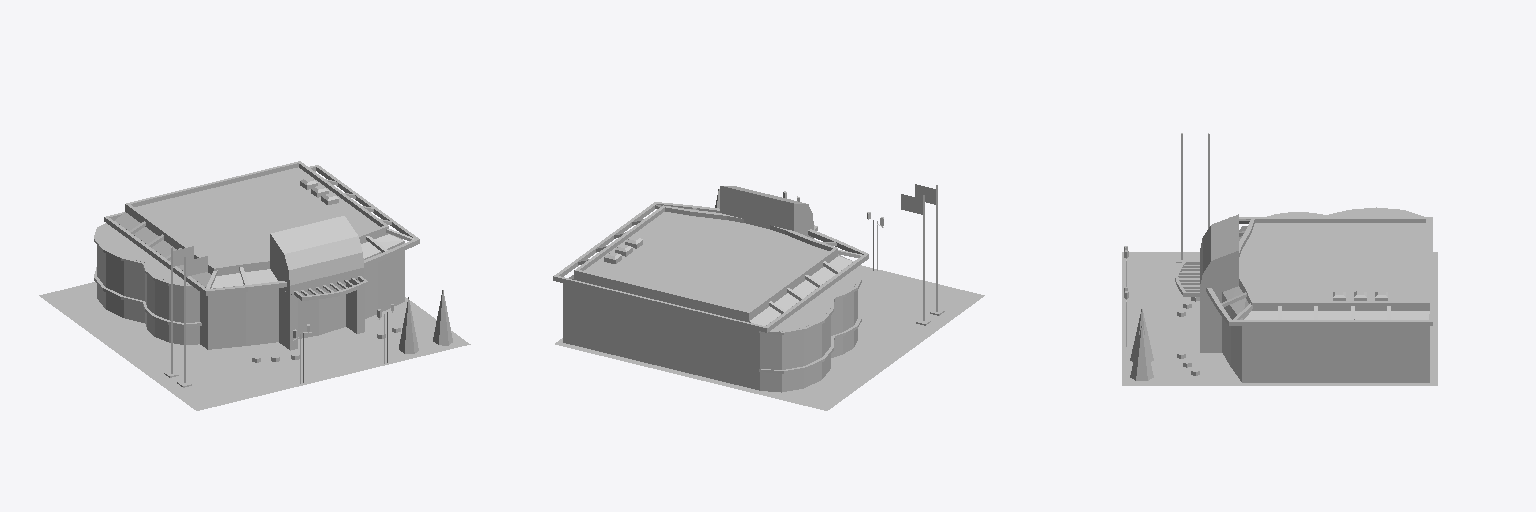
File: market_01.obj
The picture shows the model from 3 angles: view 1: azimuth 30°, elevation 25°; view 2: azimuth 150°, elevation 25°; view 3: azimuth 270°, elevation 25°; orthographic projection.
Parts seen in each view (by area): view 1: gouwudi03; view 2: gouwudi03; view 3: gouwudi03.
Boxes of the visible parts, x1=… form: gouwudi03: x1=39, y1=161, x2=470, y2=410; gouwudi03: x1=553, y1=184, x2=984, y2=410; gouwudi03: x1=1122, y1=133, x2=1437, y2=385.
Bounding box in the file's own units: 5.13 × 2.27 × 5.08.